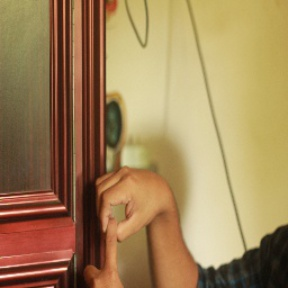Q: (79, 164, 171, 284)
